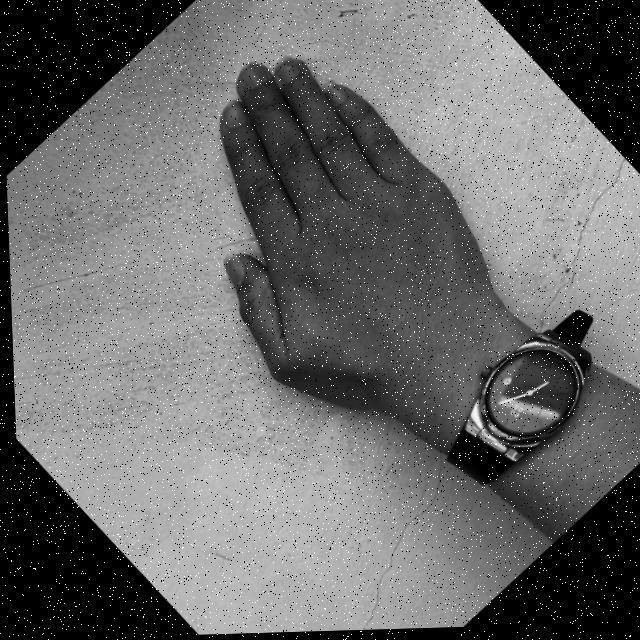no-gloves: (92, 12, 518, 442)
